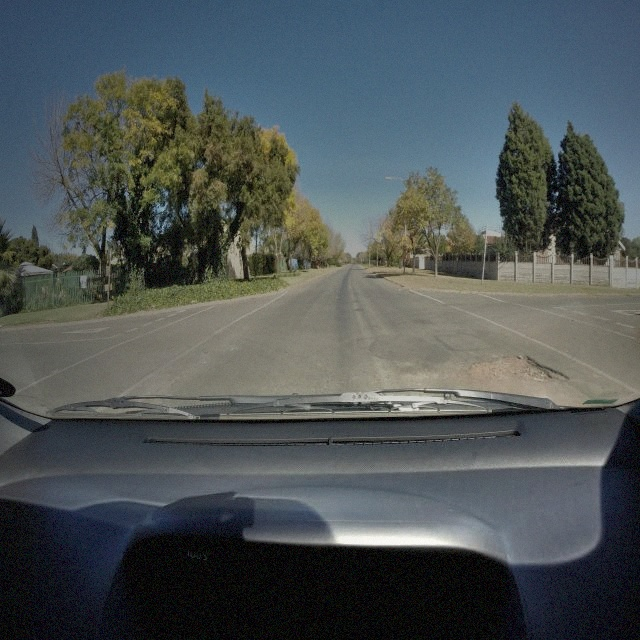pothole: (464, 352, 569, 384)
